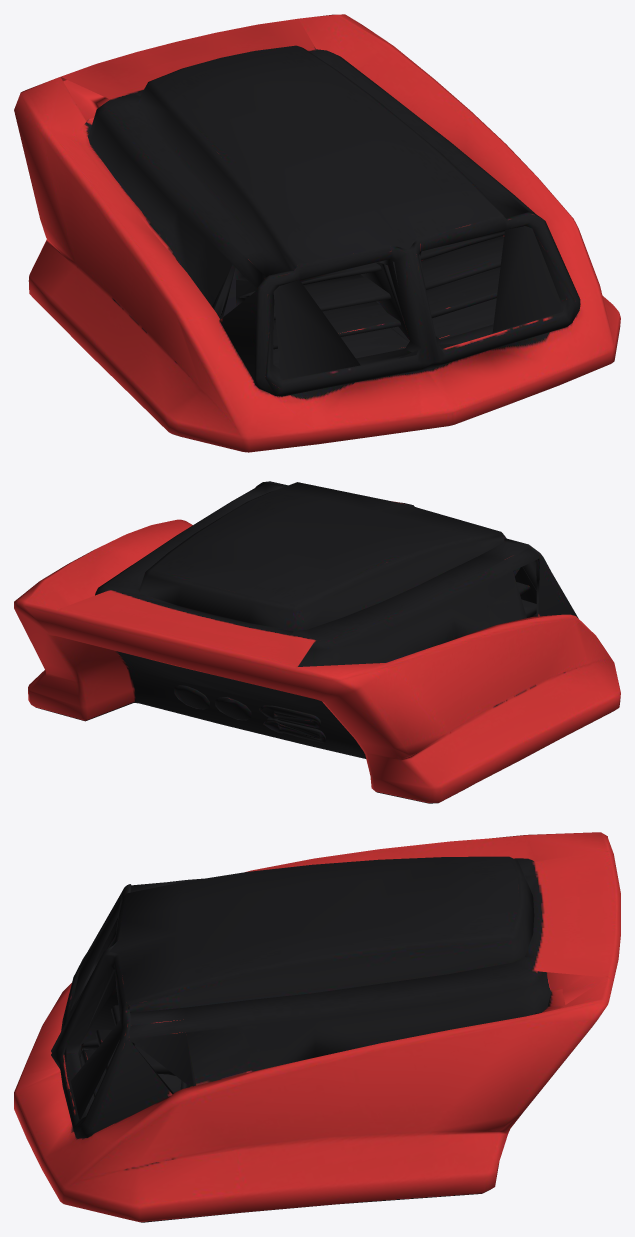
The model's file is blitz-big_engine.glb.
3 renders of one model, top to bottom at view 1: azimuth 30°, elevation 25°; view 2: azimuth 150°, elevation 25°; view 3: azimuth 270°, elevation 25°, orthographic. The views are drawn at different scales.
Visible parts, largest first — view 1: tripo_node_9c0a2f29-e9bb-4e44-b1d7-5967c9fc5ec4; view 2: tripo_node_9c0a2f29-e9bb-4e44-b1d7-5967c9fc5ec4; view 3: tripo_node_9c0a2f29-e9bb-4e44-b1d7-5967c9fc5ec4.
Part boxes in pixels (<box>): tripo_node_9c0a2f29-e9bb-4e44-b1d7-5967c9fc5ec4: <box>14,14,620,452</box>; tripo_node_9c0a2f29-e9bb-4e44-b1d7-5967c9fc5ec4: <box>14,481,620,803</box>; tripo_node_9c0a2f29-e9bb-4e44-b1d7-5967c9fc5ec4: <box>14,832,620,1222</box>.
Size of the model in its own units: 0.7934 by 0.3377 by 0.85.
1 material, 1 textured.
